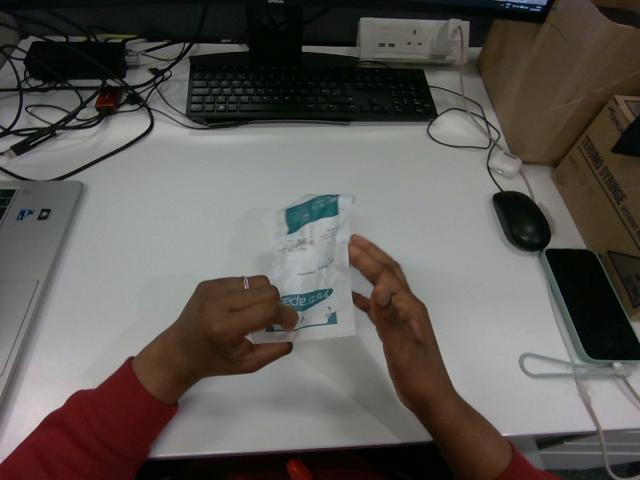gallipot: (252, 195, 354, 342)
